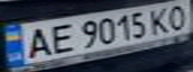0: (97, 15, 118, 45)
1: (115, 11, 136, 42)
5: (127, 8, 151, 38)
9: (75, 17, 100, 48)
A: (18, 25, 54, 60)
E: (42, 20, 78, 56)
K: (145, 5, 175, 35)
O: (163, 1, 193, 30)
